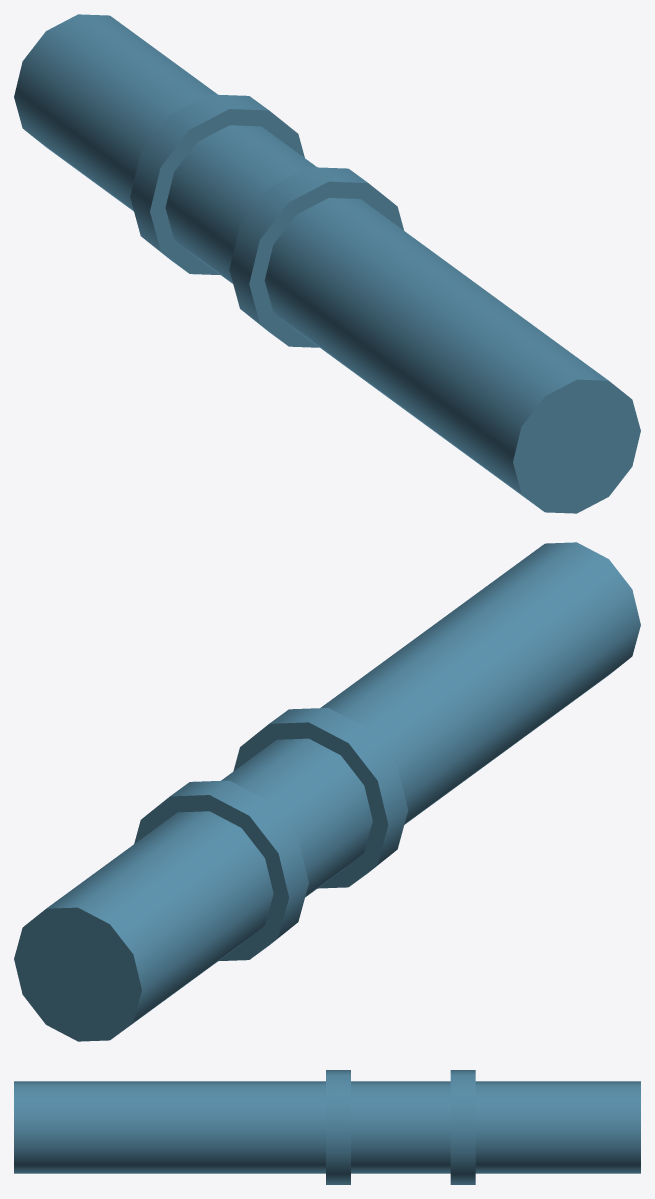
The model's file is GJ_Decor_Pile_05.fbx.
3 renders of one model, top to bottom at view 1: azimuth 30°, elevation 25°; view 2: azimuth 150°, elevation 25°; view 3: azimuth 270°, elevation 25°, orthographic. The views are drawn at different scales.
Parts seen in each view (by area): view 1: GJ_Decor_Pile_05; view 2: GJ_Decor_Pile_05; view 3: GJ_Decor_Pile_05.
Part boxes in pixels (x1,y1,x2,y2): GJ_Decor_Pile_05: (14, 14, 640, 513); GJ_Decor_Pile_05: (14, 542, 640, 1041); GJ_Decor_Pile_05: (14, 1070, 640, 1184).
Size of the model in its own units: 5.15 by 5.15 by 27.98.
